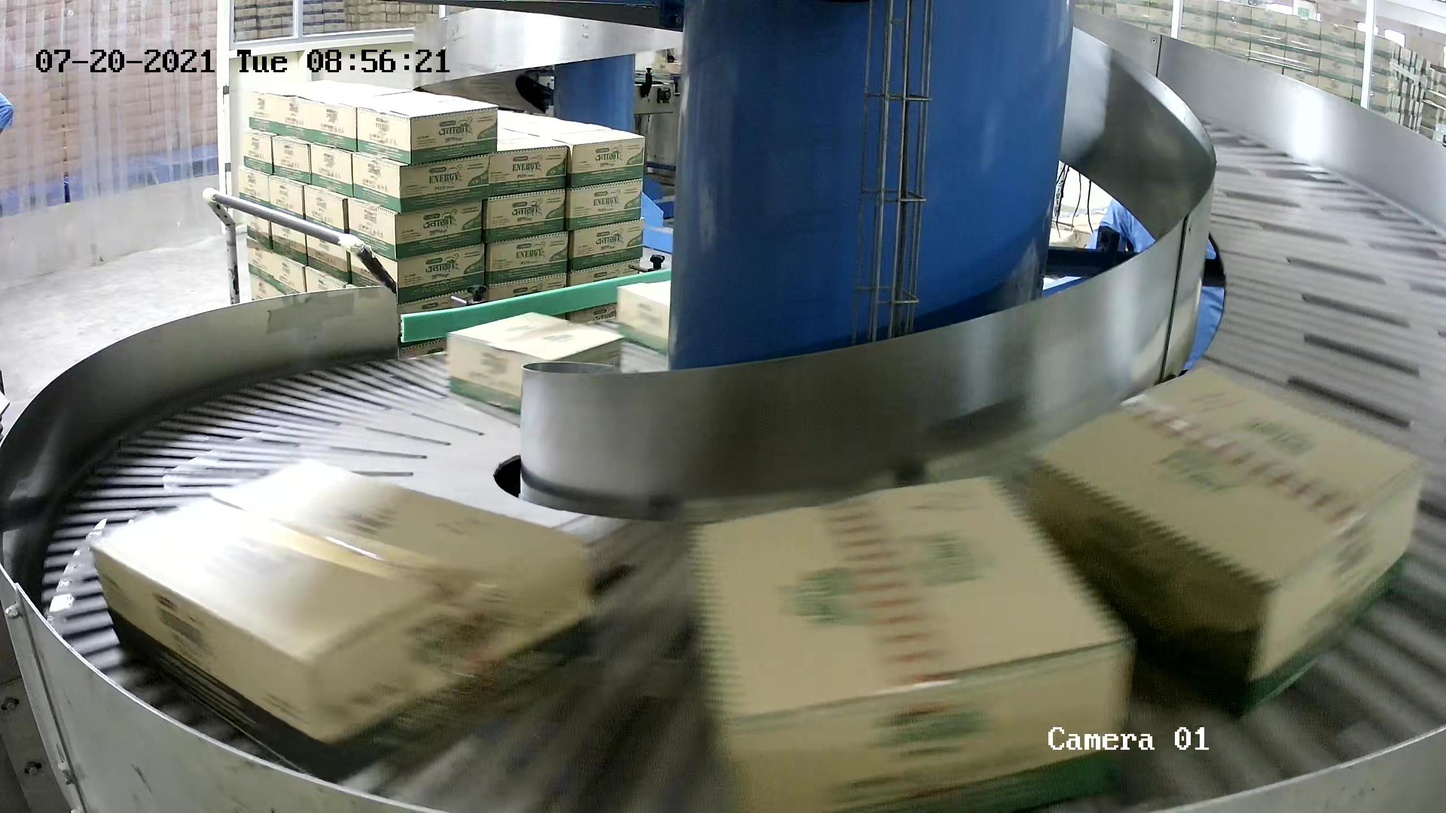Box: (87, 454, 597, 787), (685, 469, 1141, 810), (1019, 357, 1428, 725), (446, 310, 626, 416), (615, 279, 671, 355)
